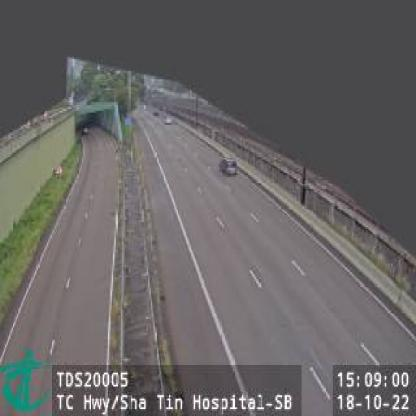Car: (221, 158, 239, 176)
